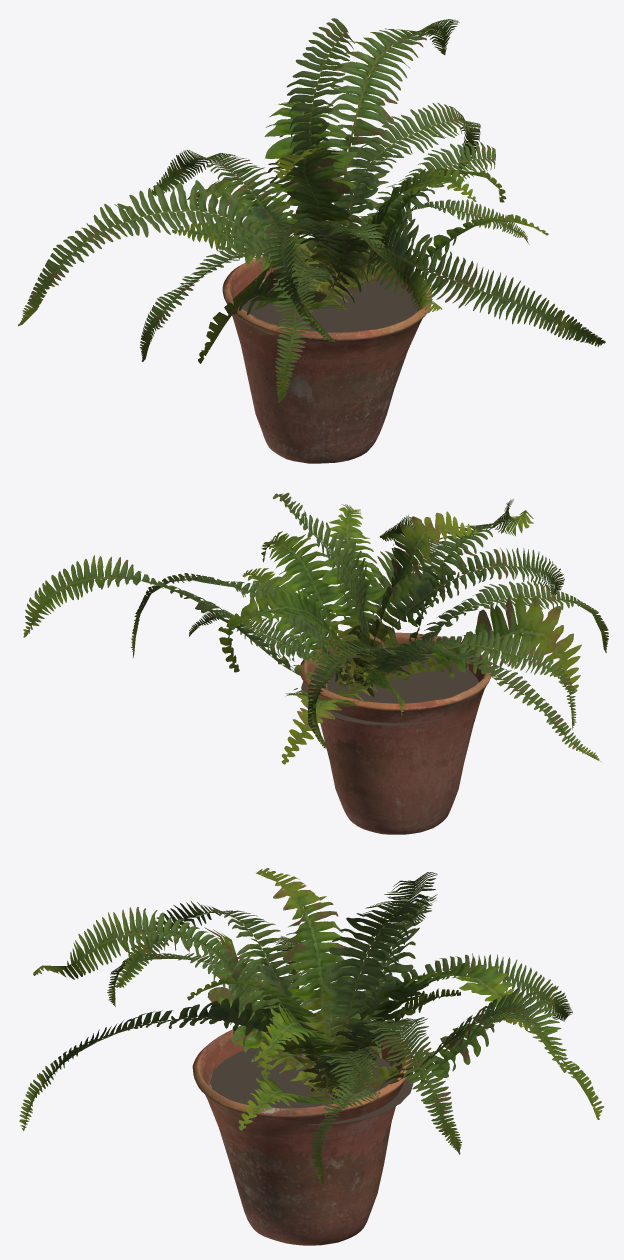
File: plant_fern_hanging.glb
3 views of the same model, one above another, from view 1: azimuth 30°, elevation 25°; view 2: azimuth 150°, elevation 25°; view 3: azimuth 270°, elevation 25° (orthographic). The views are drawn at different scales.
Parts seen in each view (by area): view 1: fern_02_b, planter_pot_clay, soil; view 2: fern_02_b, planter_pot_clay, soil; view 3: fern_02_b, planter_pot_clay, soil.
Boxes of the visible parts, left/top/right/bottom form: fern_02_b: left=18, top=18, right=605, bottom=403; planter_pot_clay: left=222, top=253, right=431, bottom=463; soil: left=231, top=277, right=418, bottom=332; fern_02_b: left=23, top=492, right=608, bottom=764; planter_pot_clay: left=299, top=632, right=491, bottom=834; soil: left=301, top=651, right=478, bottom=725; fern_02_b: left=19, top=868, right=603, bottom=1185; planter_pot_clay: left=192, top=1017, right=411, bottom=1245; soil: left=210, top=1041, right=413, bottom=1125.
Size of the model in its own units: 0.9897 by 0.6457 by 0.8937.
3 materials, 2 textured.
